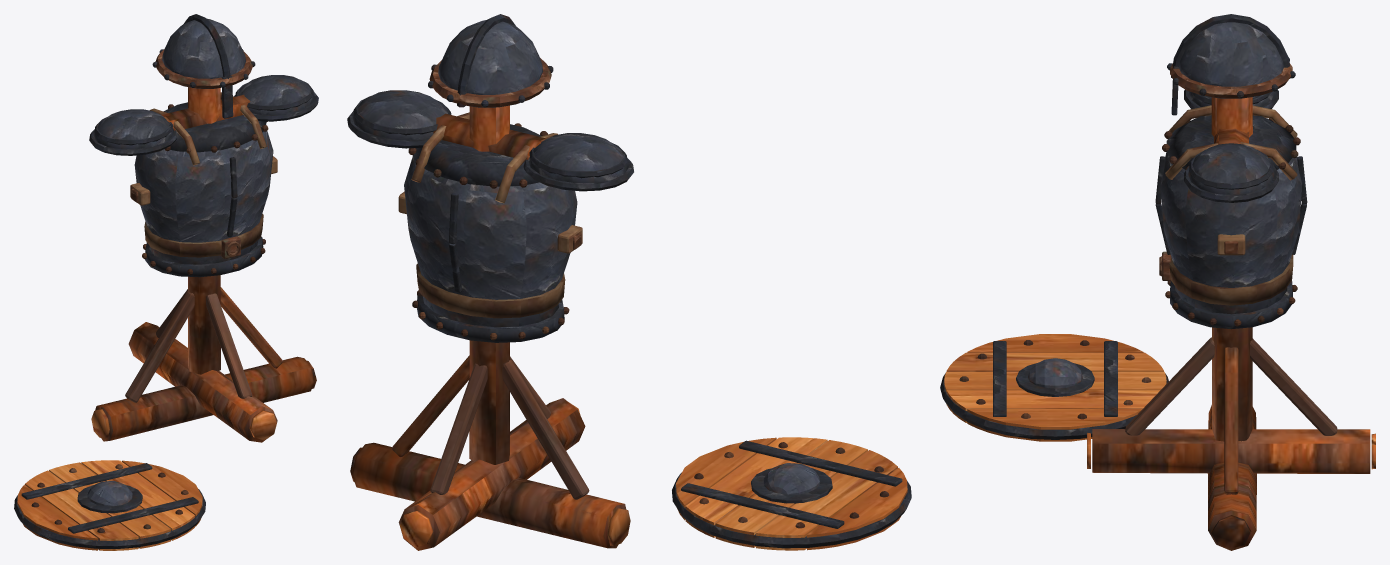
File: mg_armour_stand.glb
The picture shows the model from 3 angles, left to right: view 1: azimuth 30°, elevation 25°; view 2: azimuth 150°, elevation 25°; view 3: azimuth 270°, elevation 25°; orthographic projection. The views are drawn at different scales.
Parts seen in each view (by area): view 1: model; view 2: model; view 3: model.
Boxes of the visible parts, box(x1,y1,x2,y2) form: model: box(14, 14, 318, 550); model: box(347, 14, 911, 550); model: box(940, 14, 1375, 550).
Bounding box in the file's own units: 1.08 × 1.14 × 0.941.
15 materials, 15 textured.
